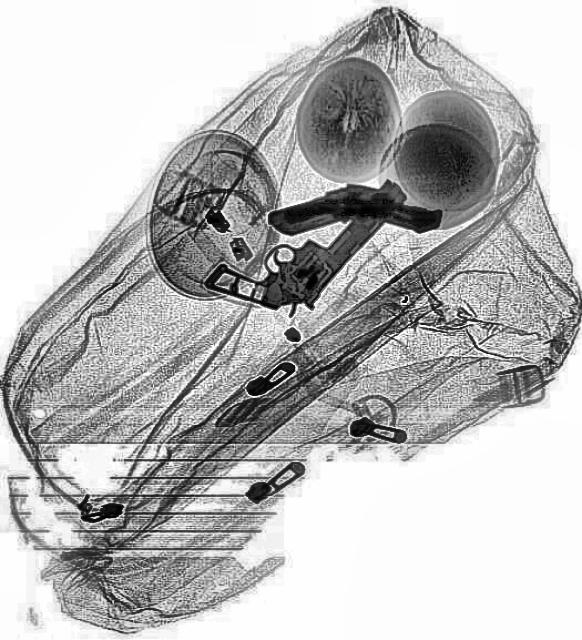Gun: (200, 130, 409, 348), (262, 157, 444, 280)
